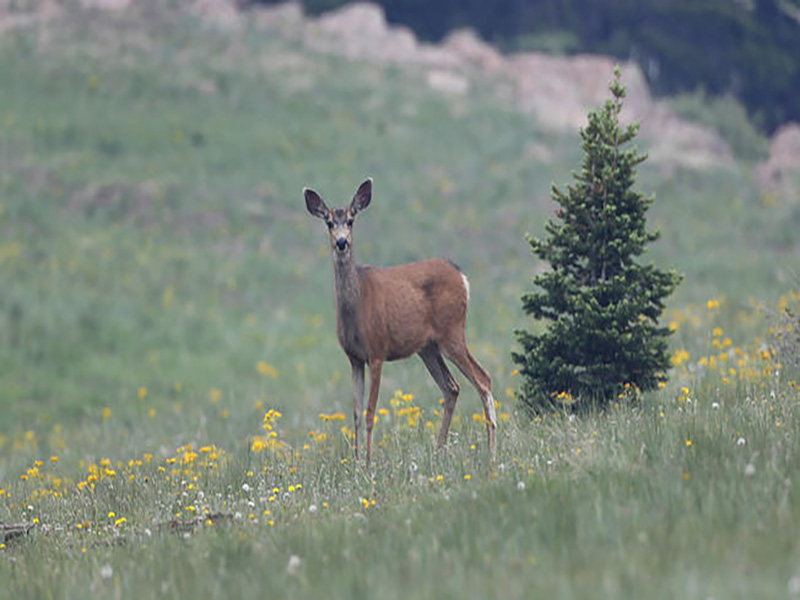cervo: (289, 167, 519, 487)
